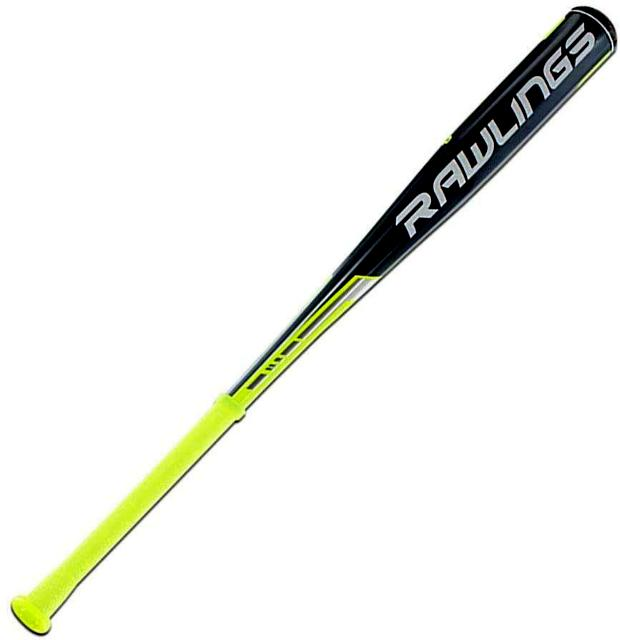baseball bat: (0, 1, 618, 639)
